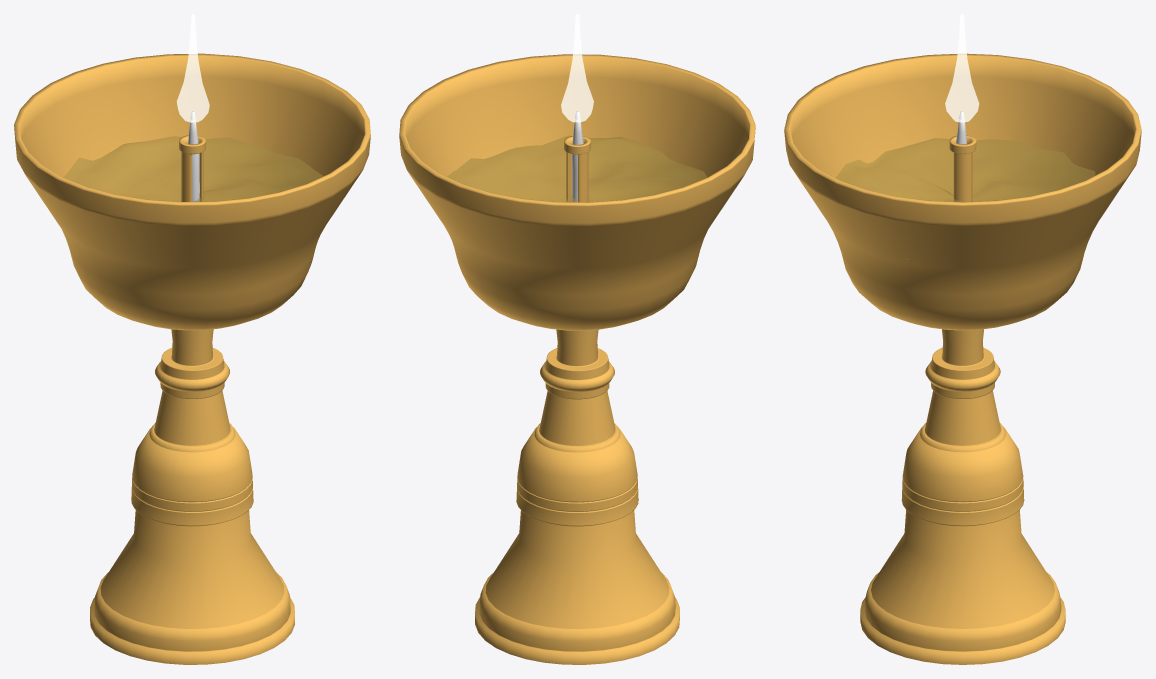
Rendered from dummy.gltf.
3 views of the same model, side by side, from view 1: azimuth 30°, elevation 25°; view 2: azimuth 150°, elevation 25°; view 3: azimuth 270°, elevation 25° (orthographic).
Visible parts, largest first — view 1: diva, Circle, Cylinder.001, Cylinder; view 2: diva, Circle, Cylinder.001, Cylinder; view 3: diva, Circle, Cylinder.001.
Boxes of the visible parts, <box> form: diva: <box>14,53,370,664</box>; Circle: <box>63,136,323,201</box>; Cylinder.001: <box>176,14,209,122</box>; Cylinder: <box>188,111,199,201</box>; diva: <box>399,54,755,664</box>; Circle: <box>447,135,707,202</box>; Cylinder.001: <box>561,14,593,122</box>; Cylinder: <box>572,111,583,202</box>; diva: <box>784,53,1141,664</box>; Circle: <box>836,138,1095,259</box>; Cylinder.001: <box>945,14,979,122</box>.
Size of the model in its own units: 2.64 by 4.95 by 2.64.
